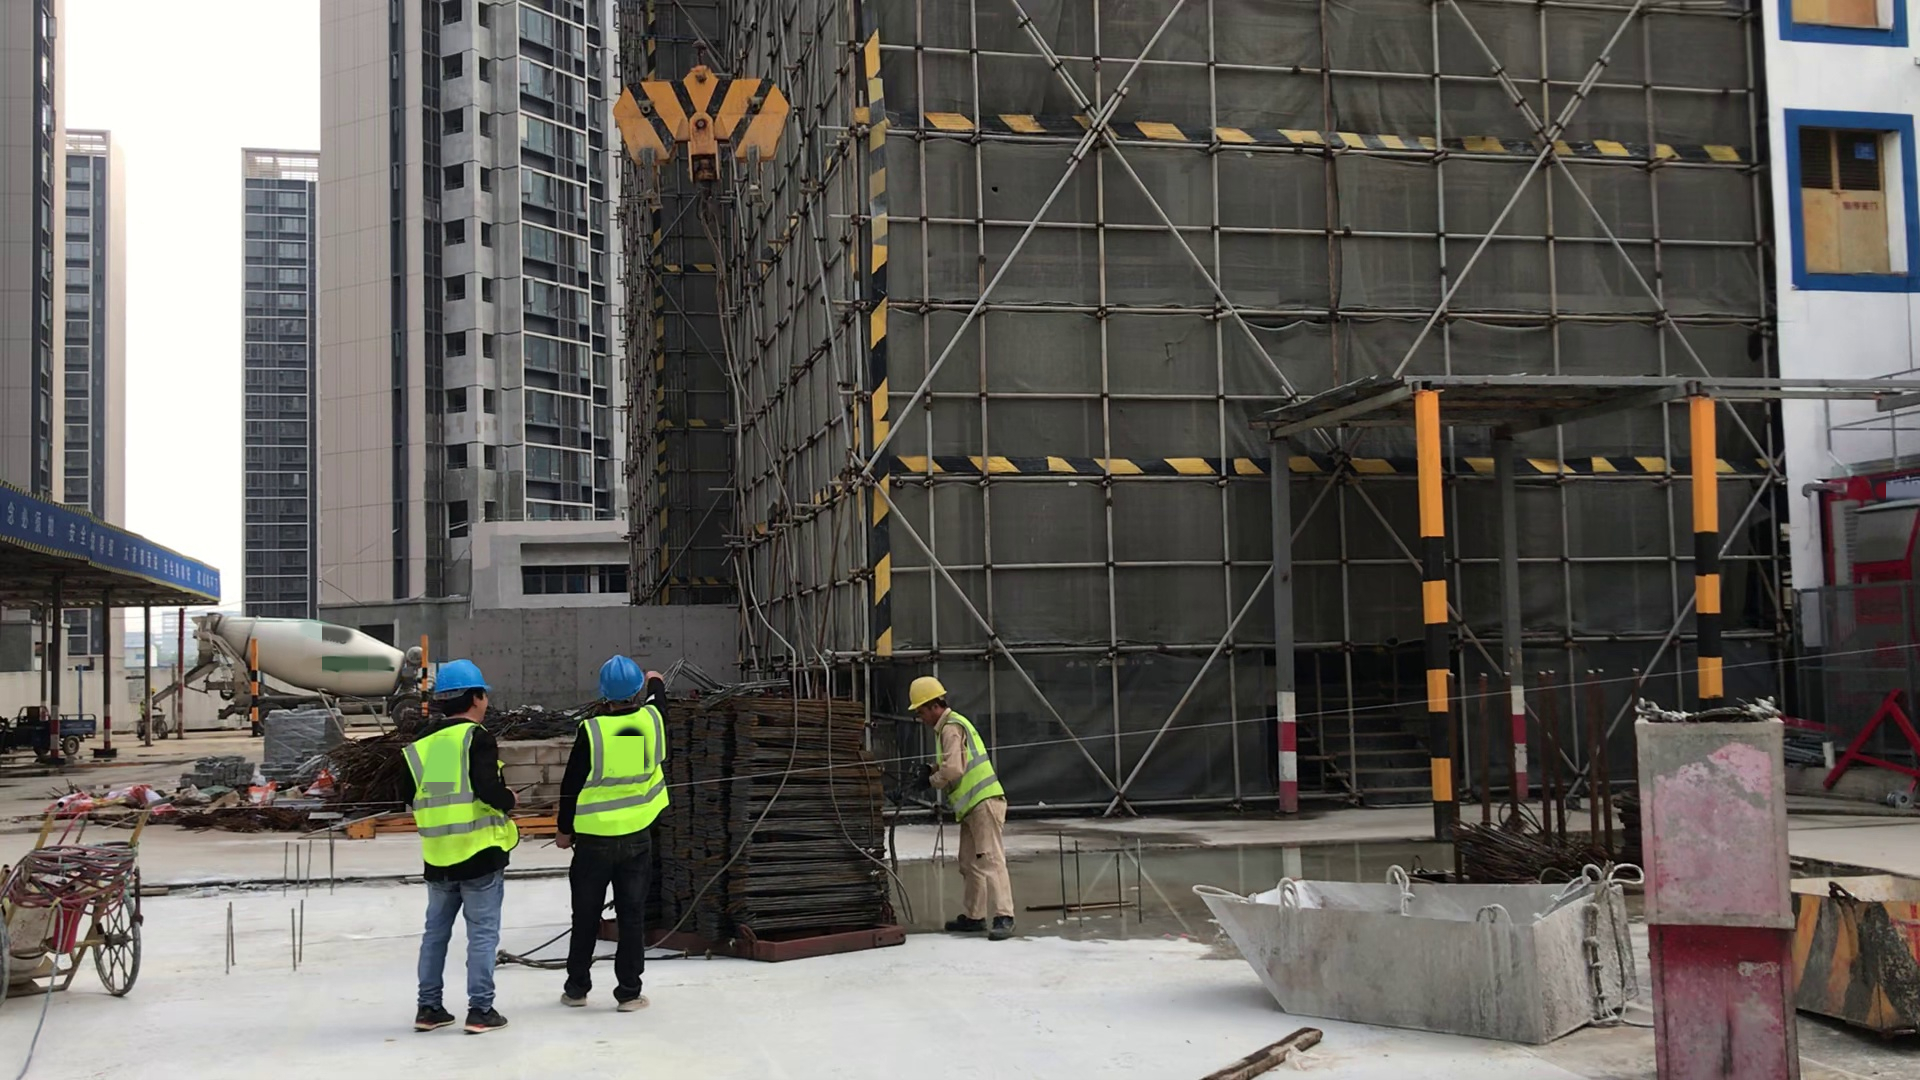handcart: (1, 804, 143, 1001)
helmet: (428, 654, 489, 692), (597, 656, 646, 700), (905, 680, 944, 708)
hook: (613, 72, 794, 206)
hopper: (1196, 869, 1634, 1043), (1789, 872, 1920, 1037)
person: (397, 659, 518, 1038), (553, 656, 669, 1019), (904, 675, 1018, 942)
rebar: (674, 692, 885, 935)
slogan: (2, 481, 223, 604)
vest: (404, 720, 520, 862), (575, 706, 669, 838), (932, 711, 1001, 816)
